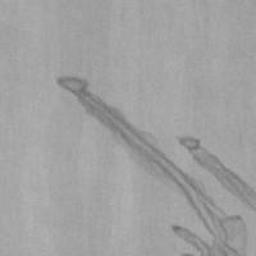Water spot: (55, 76, 248, 256), (173, 133, 256, 214)
